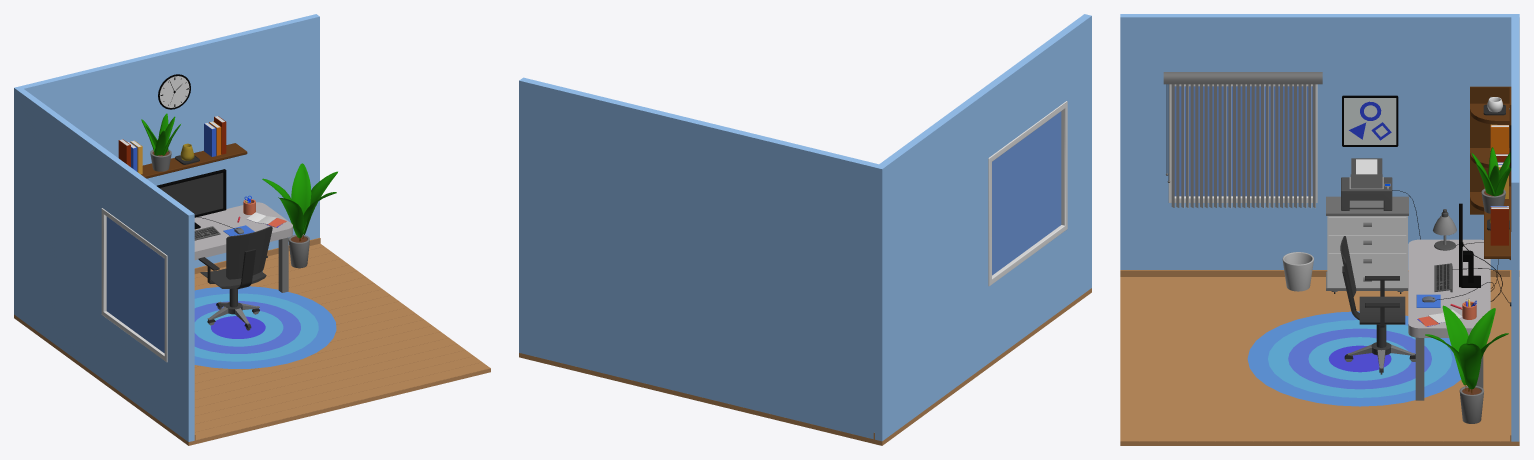
Rendered from room_scene.glb.
The picture shows the model from 3 angles, left to right: view 1: azimuth 30°, elevation 25°; view 2: azimuth 150°, elevation 25°; view 3: azimuth 270°, elevation 25°; orthographic projection. The views are drawn at different scales.
Parts seen in each view (by area): view 1: Wall_Window, Wall, Floor, Carpet, Chair, Table, Plant2, Monitor, Plant1, Shelf, Clock; view 2: Wall, Wall_Window, Floor; view 3: Wall_Window, Floor, Curtain, Carpet, Cupboard, Table, Wall, Chair, Plant2, Picture, CornerShelf, Printer (+8 smaller).
Part boxes in pixels (x1,y1,x2,y2): Wall_Window: (14, 88, 195, 441); Wall: (14, 14, 320, 273); Floor: (14, 243, 490, 445); Carpet: (194, 286, 336, 368); Chair: (198, 226, 272, 330); Table: (194, 202, 292, 292); Plant2: (262, 163, 337, 268); Monitor: (157, 169, 226, 229); Plant1: (141, 113, 180, 171); Shelf: (141, 143, 247, 178); Clock: (158, 74, 190, 109); Wall: (519, 77, 878, 439); Wall_Window: (873, 14, 1091, 441); Floor: (519, 288, 1091, 445); Wall_Window: (1120, 14, 1519, 276); Floor: (1120, 277, 1519, 445); Curtain: (1163, 72, 1322, 207); Carpet: (1247, 311, 1461, 406); Cupboard: (1326, 196, 1408, 293); Table: (1408, 239, 1490, 400); Wall: (1510, 14, 1519, 441); Chair: (1340, 236, 1415, 374); Plant2: (1425, 305, 1508, 423); Picture: (1342, 95, 1398, 146); CornerShelf: (1470, 86, 1511, 231); Printer: (1341, 158, 1392, 210).
Size of the model in its own units: 4.01 by 2.91 by 4.
